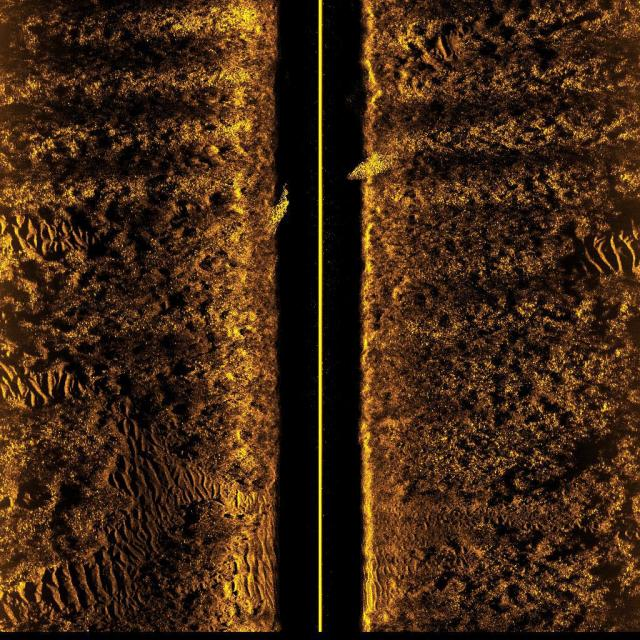mine: (1, 493, 15, 510), (222, 510, 238, 520)
